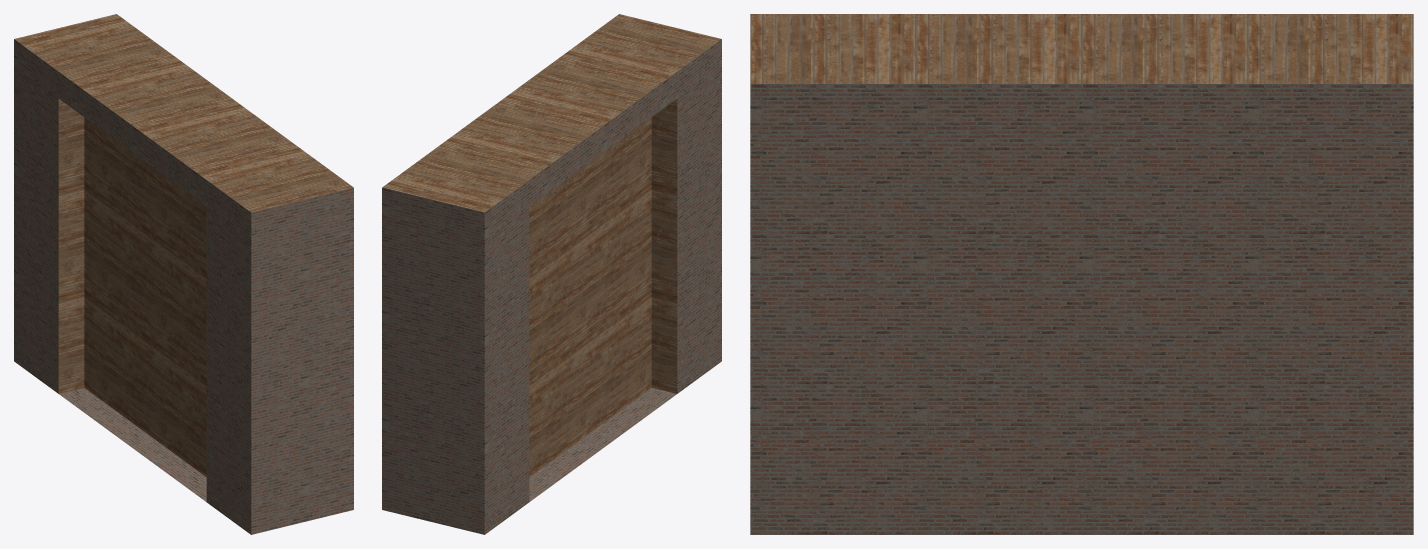
The model's file is Door Frame Side OBJ.obj.
3 renders of one model, left to right at view 1: azimuth 30°, elevation 25°; view 2: azimuth 150°, elevation 25°; view 3: azimuth 270°, elevation 25°, orthographic. The views are drawn at different scales.
Parts seen in each view (by area): view 1: Door Frame_Model_0, Door Frame_Model_1; view 2: Door Frame_Model_0, Door Frame_Model_1; view 3: Door Frame_Model_0, Door Frame_Model_1.
Boxes of the visible parts, <box> form: Door Frame_Model_0: <box>14,39,353,534</box>; Door Frame_Model_1: <box>14,14,353,476</box>; Door Frame_Model_0: <box>382,39,721,534</box>; Door Frame_Model_1: <box>382,14,721,476</box>; Door Frame_Model_0: <box>750,84,1413,534</box>; Door Frame_Model_1: <box>750,14,1413,83</box>.
Size of the model in its own units: 1 by 3 by 4.
2 materials, 2 textured.
